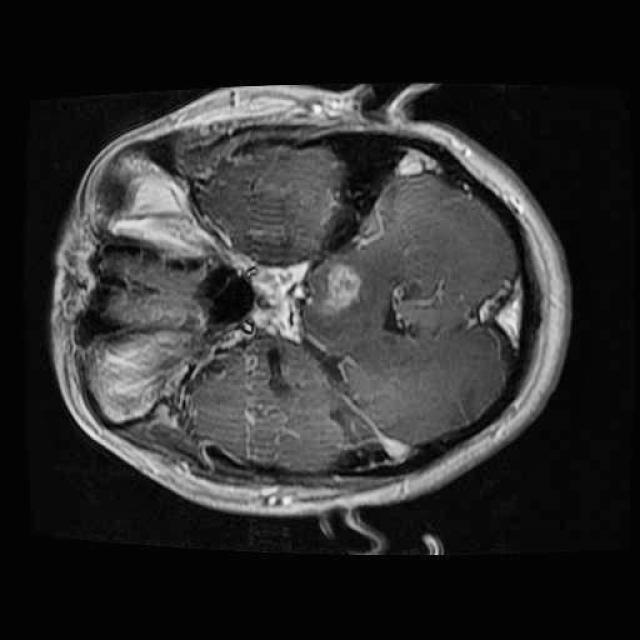Non-Tumor: (306, 250, 375, 326)
